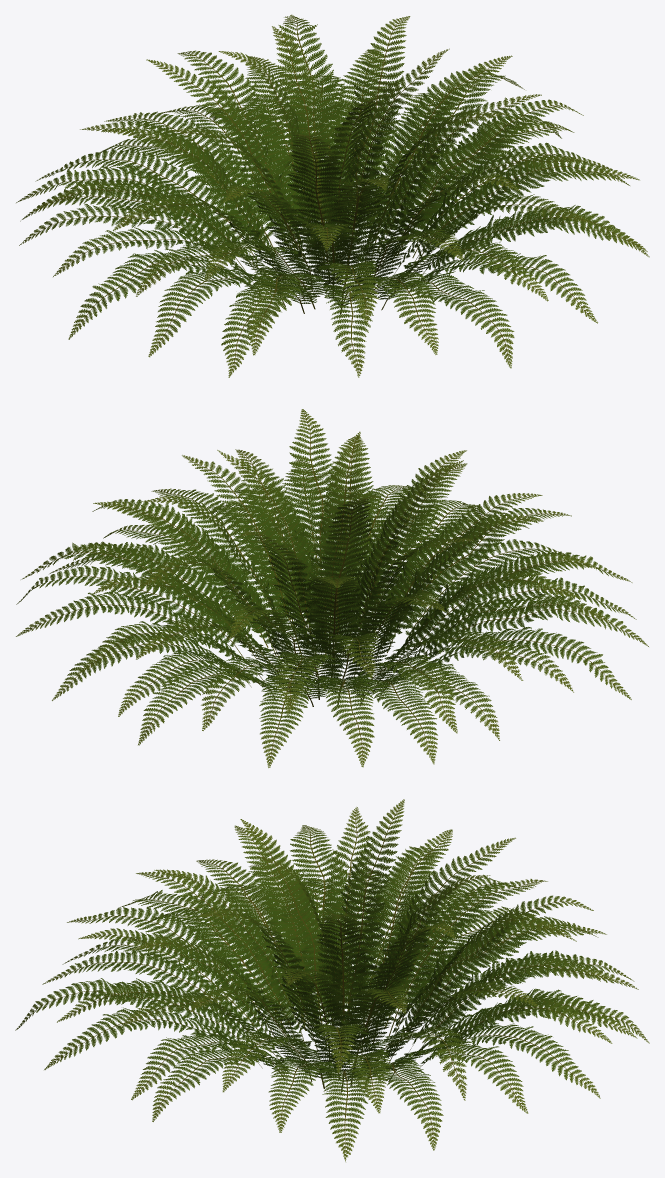
The model's file is matteuccia_struthiopteris_a001.gltf.
3 views of the same model, one above another, from view 1: azimuth 30°, elevation 25°; view 2: azimuth 150°, elevation 25°; view 3: azimuth 270°, elevation 25° (orthographic). The views are drawn at different scales.
Parts seen in each view (by area): view 1: Matteuccia_struthiopteris__A001; view 2: Matteuccia_struthiopteris__A001; view 3: Matteuccia_struthiopteris__A001.
Boxes of the visible parts, <box> form: Matteuccia_struthiopteris__A001: <box>16,14,649,377</box>; Matteuccia_struthiopteris__A001: <box>16,409,648,767</box>; Matteuccia_struthiopteris__A001: <box>15,799,649,1161</box>.
Size of the model in its own units: 2.75 by 1.02 by 2.69.
Materials: 1 (1 with a texture image).
